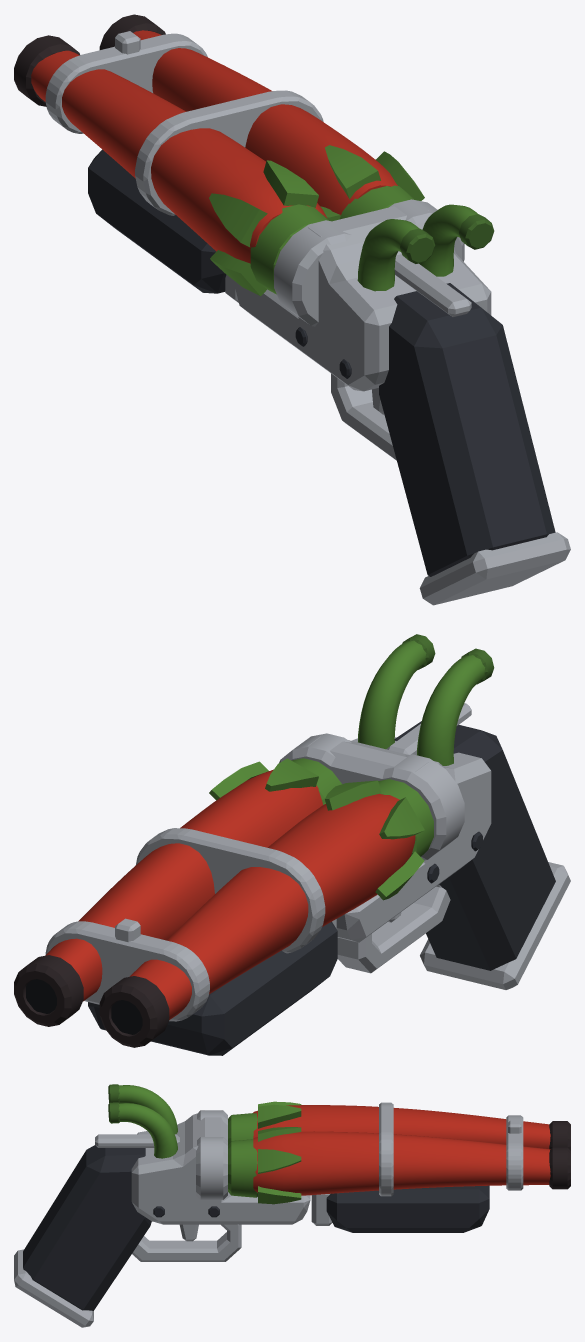
Rendered from w_sawnoff@sawnoff_pepper.glb.
The picture shows the model from 3 angles, top to bottom: view 1: azimuth 30°, elevation 25°; view 2: azimuth 150°, elevation 25°; view 3: azimuth 270°, elevation 25°; orthographic projection. The views are drawn at different scales.
Parts seen in each view (by area): view 1: grip_wzA, hinge_wzA, body_wzB, hinge_wzN, hinge_wzN.001, forend_wzA, grip_wzN, hinge_trim_wzN, hammerL_wzN, body_wzN.001, hammerR_wzN, hammerL_wzN.001 (+1 smaller); view 2: hinge_wzA, grip_wzA, body_wzB, hinge_wzN.001, forend_wzA, hinge_wzN, hinge_trim_wzN, body_wzN.001, hammerL_wzN, hammerR_wzN, grip_wzN, hinge_trim_wzN.001; view 3: hinge_wzA, grip_wzA, body_wzB, forend_wzA, hinge_wzN, body_wzN.001, hinge_wzN.001, grip_wzN, hammerR_wzN, hinge_trim_wzN, hammerL_wzN, forend_iron_wzN.
Part boxes in pixels (bbox=[...]): grip_wzA: bbox=[379, 283, 555, 576]; hinge_wzA: bbox=[31, 30, 397, 263]; body_wzB: bbox=[233, 199, 491, 391]; hinge_wzN: bbox=[209, 145, 424, 296]; hinge_wzN.001: bbox=[45, 33, 323, 215]; forend_wzA: bbox=[88, 149, 226, 293]; grip_wzN: bbox=[419, 532, 570, 605]; hinge_trim_wzN: bbox=[14, 14, 165, 106]; hammerL_wzN: bbox=[357, 219, 418, 291]; body_wzN.001: bbox=[331, 373, 396, 460]; hammerR_wzN: bbox=[419, 204, 477, 276]; hammerL_wzN.001: bbox=[400, 228, 435, 263]; hinge_wzA: bbox=[45, 769, 415, 1019]; grip_wzA: bbox=[394, 721, 555, 970]; body_wzB: bbox=[279, 703, 491, 942]; hinge_wzN.001: bbox=[45, 828, 325, 1021]; forend_wzA: bbox=[88, 921, 337, 1055]; hinge_wzN: bbox=[209, 758, 433, 900]; hinge_trim_wzN: bbox=[14, 955, 169, 1047]; body_wzN.001: bbox=[337, 884, 450, 973]; hammerL_wzN: bbox=[417, 655, 485, 765]; hammerR_wzN: bbox=[358, 640, 426, 749]; grip_wzN: bbox=[420, 862, 570, 989]; hinge_trim_wzN.001: bbox=[26, 979, 142, 1034]; hinge_wzA: bbox=[253, 1105, 550, 1195]; grip_wzA: bbox=[23, 1145, 151, 1310]; body_wzB: bbox=[95, 1110, 310, 1224]; forend_wzA: bbox=[326, 1185, 489, 1232]; hinge_wzN: bbox=[228, 1101, 301, 1204]; body_wzN.001: bbox=[132, 1221, 241, 1261]; hinge_wzN.001: bbox=[379, 1102, 523, 1196]; grip_wzN: bbox=[14, 1249, 93, 1327]; hammerR_wzN: bbox=[118, 1103, 177, 1158]; hinge_trim_wzN: bbox=[549, 1121, 570, 1189]; hammerL_wzN: bbox=[118, 1085, 177, 1134]; forend_iron_wzN: bbox=[311, 1194, 332, 1225].
Size of the model in its own units: 0.1193 by 0.2126 by 0.4856.
